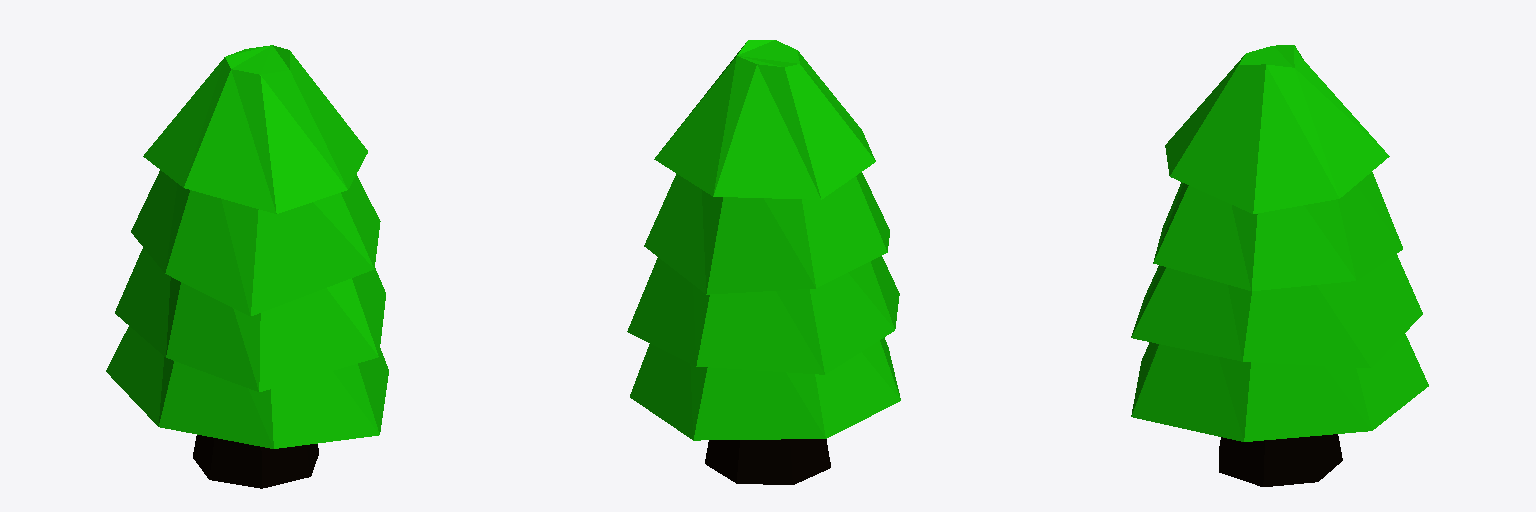
Rendered from ctree5B(F59).obj.
3 views of the same model, side by side, from view 1: azimuth 30°, elevation 25°; view 2: azimuth 150°, elevation 25°; view 3: azimuth 270°, elevation 25° (orthographic).
Parts seen in each view (by area): view 1: Cylinder.129, Cylinder.128, Cylinder.127, Cylinder.126, Cylinder.125; view 2: Cylinder.129, Cylinder.127, Cylinder.128, Cylinder.126, Cylinder.125; view 3: Cylinder.129, Cylinder.127, Cylinder.126, Cylinder.128, Cylinder.125.
Boxes of the visible parts, <box> form: Cylinder.129: <box>143,45,367,213</box>; Cylinder.128: <box>131,170,380,316</box>; Cylinder.127: <box>115,248,385,391</box>; Cylinder.126: <box>106,326,388,448</box>; Cylinder.125: <box>193,435,318,488</box>; Cylinder.129: <box>654,40,875,199</box>; Cylinder.127: <box>627,256,899,374</box>; Cylinder.128: <box>644,172,889,294</box>; Cylinder.126: <box>630,337,900,440</box>; Cylinder.125: <box>705,439,830,484</box>; Cylinder.129: <box>1165,45,1389,213</box>; Cylinder.127: <box>1131,254,1422,367</box>; Cylinder.126: <box>1131,334,1428,441</box>; Cylinder.128: <box>1153,172,1402,290</box>; Cylinder.125: <box>1219,434,1342,486</box>.
Size of the model in its own units: 1.07 by 1.82 by 1.2.